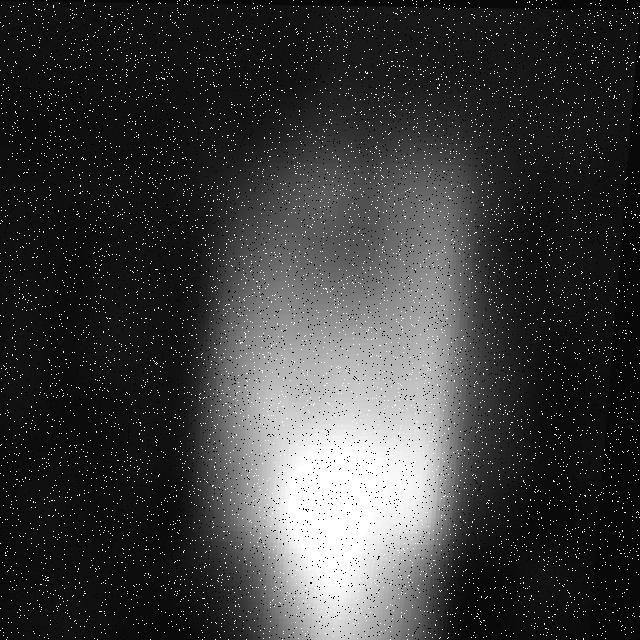person: (189, 112, 536, 640)
